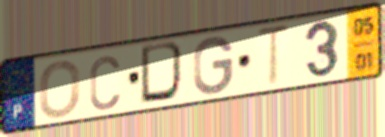3: (300, 17, 344, 80)
C: (87, 53, 122, 113)
D: (139, 39, 190, 106)
G: (191, 35, 236, 98)
O: (37, 59, 82, 120)
T: (254, 22, 293, 90)
